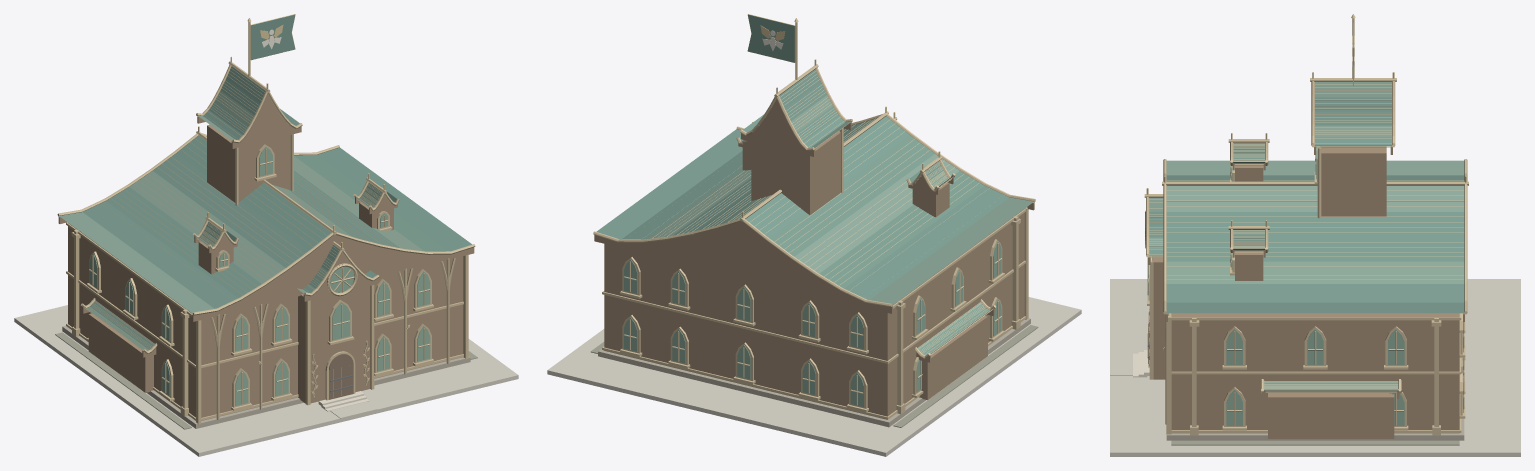
File: SpiritAcademy_Lv5.fbx
The picture shows the model from 3 angles, left to right: view 1: azimuth 30°, elevation 25°; view 2: azimuth 150°, elevation 25°; view 3: azimuth 270°, elevation 25°; orthographic projection. The views are drawn at different scales.
Parts seen in each view (by area): view 1: Roof surfaces.016, Main school walls.015, Fixed 26m plot.015, Roof surfaces.015, Gable infill.010, Window glass.015, Projecting entrance bay.015, Roof courses.010, Tree shaped bell tower.004, Window frame.015, Gable verge.010, Side garden vestibule.001 (+15 smaller); view 2: Main school walls.015, Roof surfaces.016, Fixed 26m plot.015, Roof surfaces.015, Gable infill.010, Tree shaped bell tower.004, Window glass.015, Roof courses.010, Window frame.015, Stone stringcourse.015, Gable verge.010, School foundation.015 (+9 smaller); view 3: Roof surfaces.016, Main school walls.015, Fixed 26m plot.015, Roof surfaces.015, Roof courses.010, Side garden vestibule.001, Tree shaped bell tower.004, Stone stringcourse.015, Window glass.015, Gable verge.010, Roof ridge.010, Window frame.015 (+11 smaller).
Boxes of the visible parts, x1,y1,x2,y2 form: Roof surfaces.016: (83,66,471,350); Main school walls.015: (68,223,463,420); Fixed 26m plot.015: (14,305,518,456); Roof surfaces.015: (59,90,423,349); Gable infill.010: (58,94,474,357); Window glass.015: (89,147,430,405); Projecting entrance bay.015: (298,286,370,403); Roof courses.010: (84,68,423,350); Tree shaped bell tower.004: (207,124,290,202); Window frame.015: (89,144,431,407); Gable verge.010: (57,64,475,353); Side garden vestibule.001: (88,313,153,392); Main school walls.015: (604,209,1024,419); Roof surfaces.016: (596,69,1008,355); Fixed 26m plot.015: (547,297,1081,456); Roof surfaces.015: (648,95,1033,353); Gable infill.010: (594,99,1034,362); Tree shaped bell tower.004: (751,131,840,214); Window glass.015: (624,241,1001,406); Roof courses.010: (652,71,993,354); Window frame.015: (622,239,1002,408); Stone stringcourse.015: (602,209,1025,419); Gable verge.010: (593,67,1035,358); School foundation.015: (598,318,1030,427); Roof surfaces.016: (1149,97,1464,391); Main school walls.015: (1171,313,1459,433); Fixed 26m plot.015: (1110,279,1520,456); Roof surfaces.015: (1149,81,1464,389); Roof courses.010: (1148,84,1463,392); Side garden vestibule.001: (1268,393,1394,438); Tree shaped bell tower.004: (1320,146,1386,216); Stone stringcourse.015: (1169,313,1461,432); Window glass.015: (1148,146,1463,425); Gable verge.010: (1146,81,1467,393); Roof ridge.010: (1144,78,1468,229); Window frame.015: (1150,146,1462,426).
Size of the model in its own units: 26 by 24.87 by 26.
